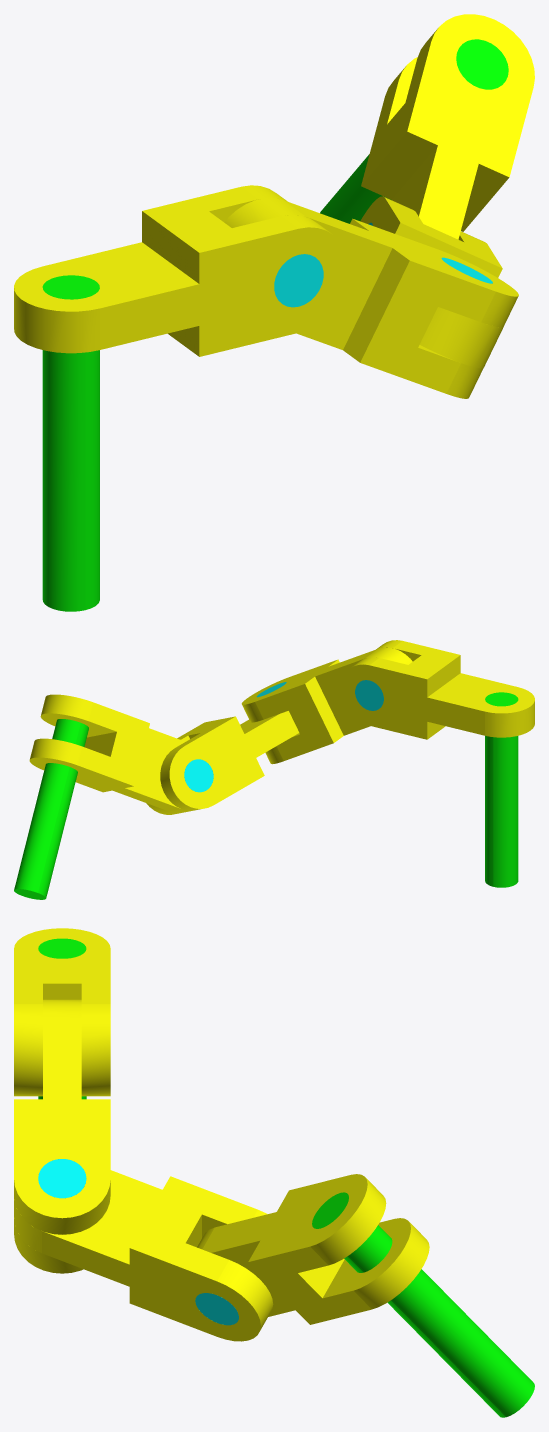
File: my-assembly.glb
3 renders of one model, top to bottom at view 1: azimuth 30°, elevation 25°; view 2: azimuth 150°, elevation 25°; view 3: azimuth 270°, elevation 25°, orthographic. The views are drawn at different scales.
Parts seen in each view (by area): view 1: chain_link (×4), long_pin (×2), short_pin; view 2: chain_link (×4), long_pin (×2), short_pin (×2); view 3: chain_link (×4), long_pin (×2), short_pin (×2).
Part boxes in pixels (x1,y1,x2,y2): chain_link (×4): (14,14,534,398); long_pin (×2): (42,39,508,611); short_pin: (274,254,323,307); chain_link (×4): (29,640,534,814); long_pin (×2): (14,692,518,899); short_pin (×2): (184,680,383,792); chain_link (×4): (14,928,429,1341); long_pin (×2): (38,938,534,1417); short_pin (×2): (38,1159,238,1325).
Size of the model in its own units: 673 by 330 by 539.
